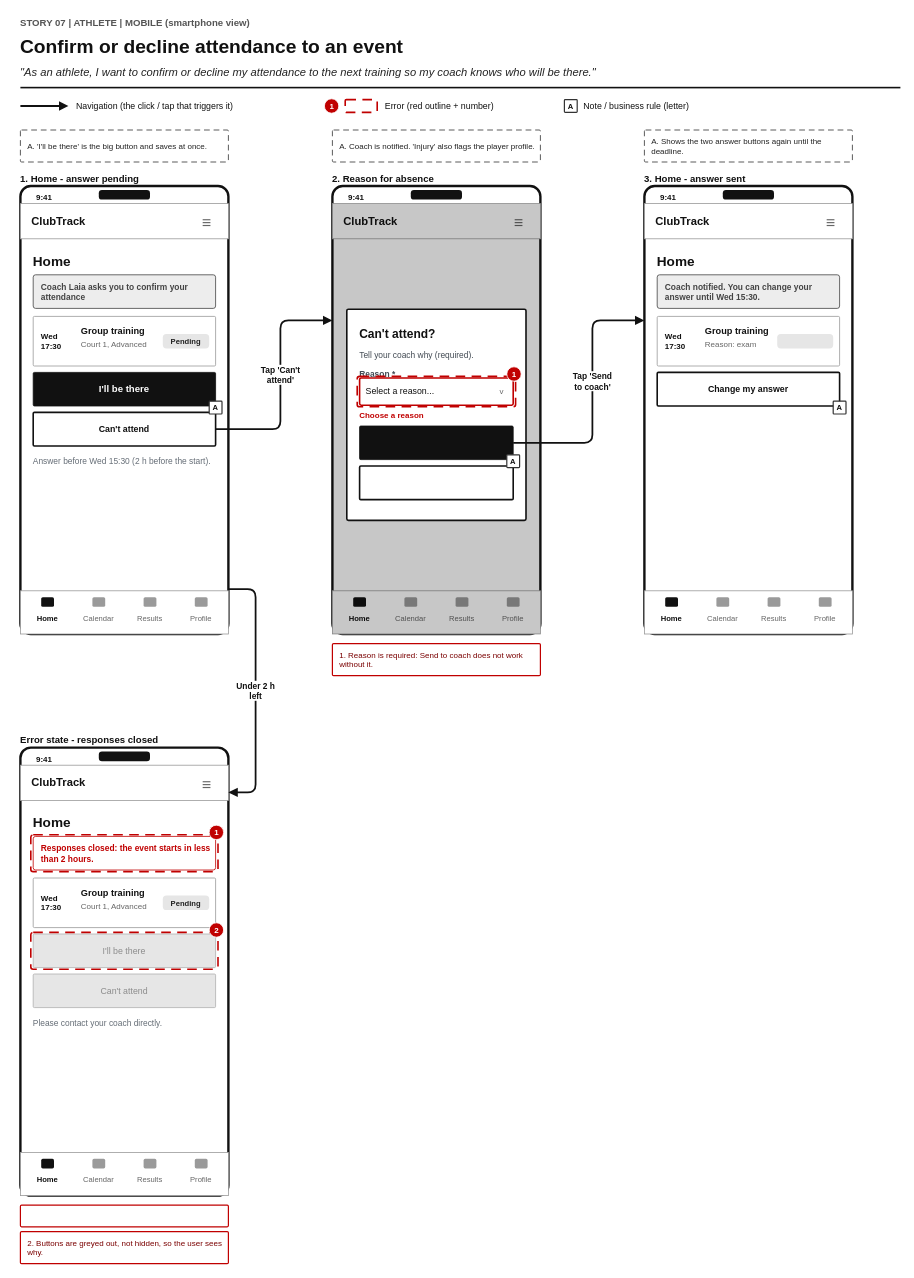
This 914x1278 diagram has some shape labels left out. The shapes that lost their labels are listed below. From the top down, each one's centre as x and y in pixels, then its label:
(x=805, y=341): Not going
(x=436, y=442): Send to coach
(x=436, y=482): Back
(x=124, y=1215): 1. Rule explained in a banner.
